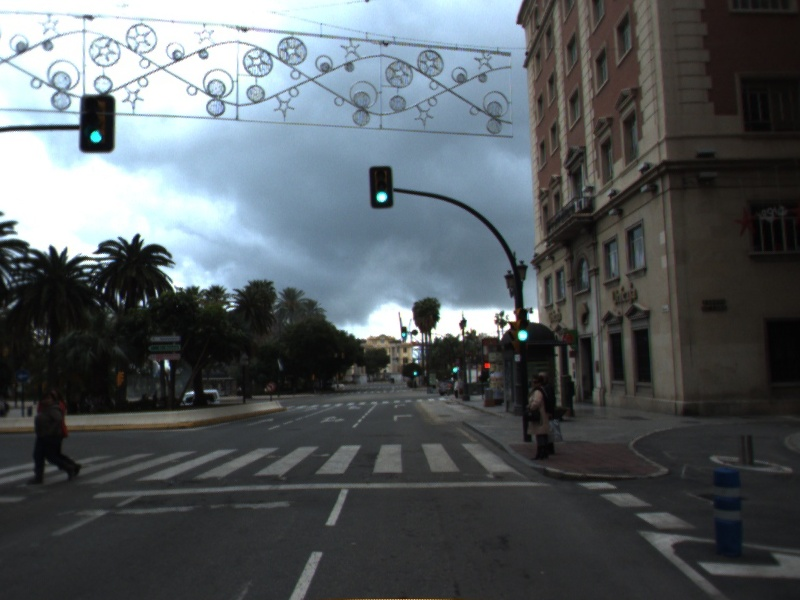RIGHT: (392, 412, 416, 423)
STRAIGHT: (244, 416, 275, 427)
STRAIGHT_RIGHT: (318, 414, 346, 425)
